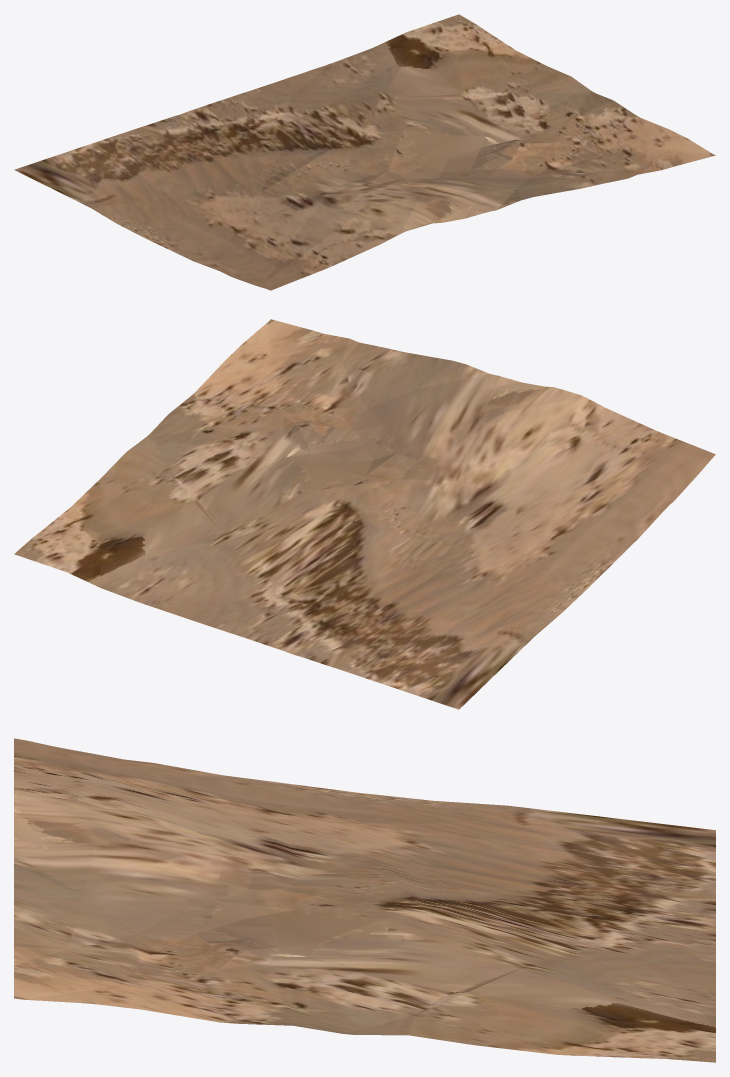
3 renders of one model, top to bottom at view 1: azimuth 30°, elevation 25°; view 2: azimuth 150°, elevation 25°; view 3: azimuth 270°, elevation 25°, orthographic. The views are drawn at different scales.
Size of the model in its own units: 1.04 by 0.2171 by 1.04.
3 materials, 3 textured.
